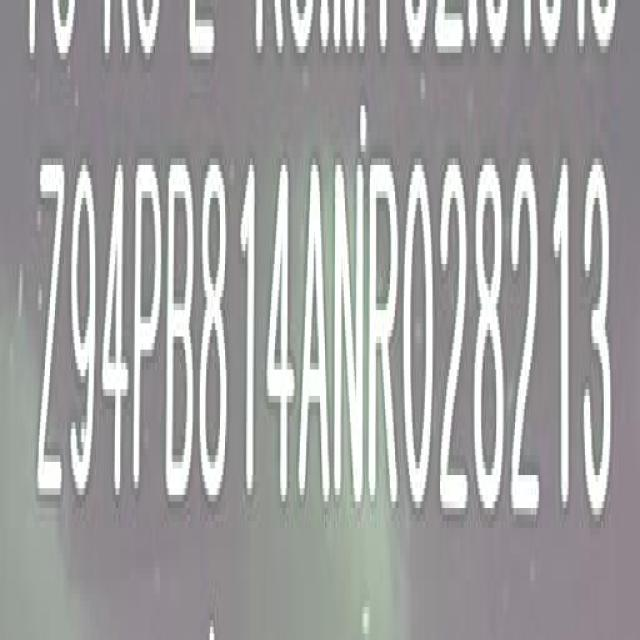0: (405, 162, 436, 519)
1: (552, 160, 575, 522), (237, 156, 259, 510)
2: (510, 156, 544, 525), (438, 155, 470, 521)
3: (585, 163, 618, 519)
4: (268, 152, 296, 507), (102, 162, 130, 512)
8: (472, 161, 504, 524), (201, 156, 230, 512)
9: (70, 163, 97, 514)
A: (302, 153, 332, 507)
B: (166, 152, 196, 513)
N: (338, 155, 367, 510)
P: (135, 155, 164, 512)
R: (369, 156, 401, 512)
Z: (39, 162, 67, 518)
